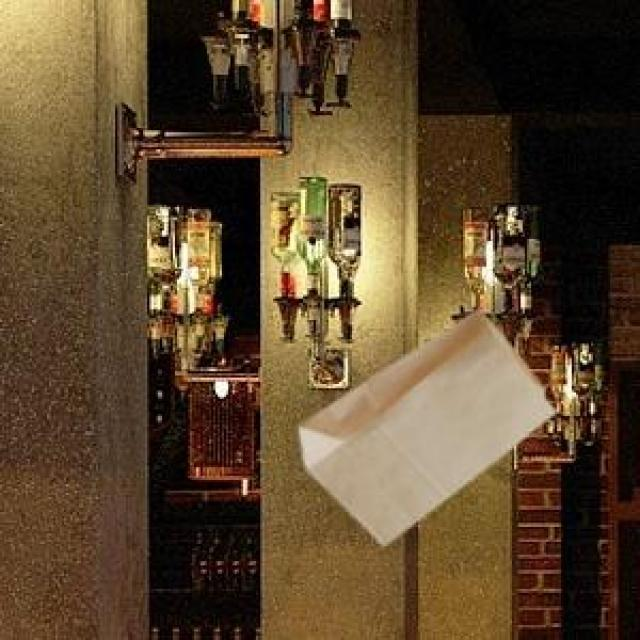paper: (294, 305, 550, 540)
